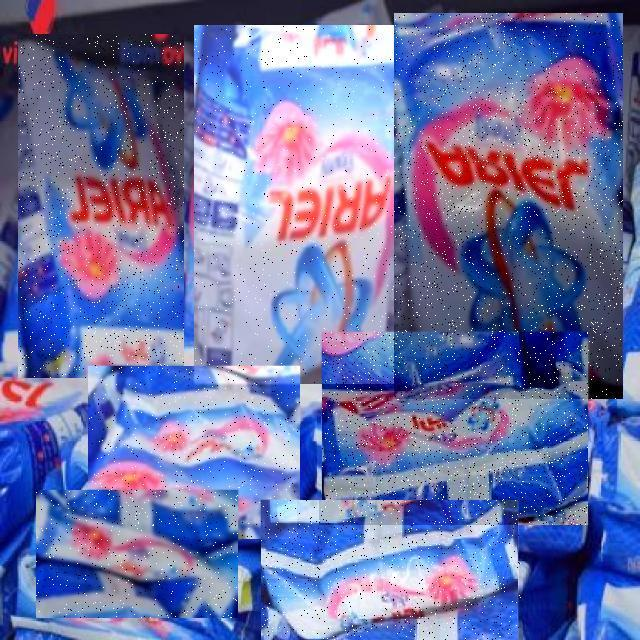Detergent: (394, 13, 623, 399), (194, 25, 394, 384), (18, 34, 184, 378), (323, 332, 589, 525), (88, 366, 300, 539), (262, 500, 522, 640), (36, 490, 238, 618)
